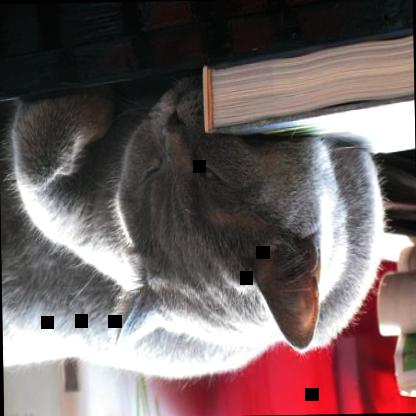cat: (0, 67, 390, 381)
